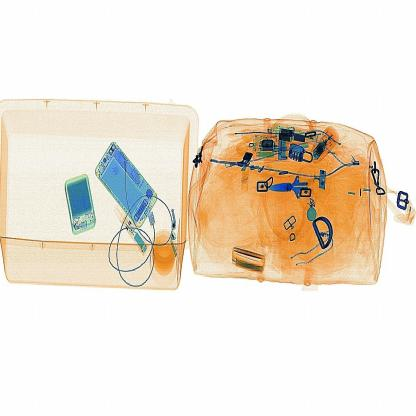gun: (261, 155, 327, 218)
